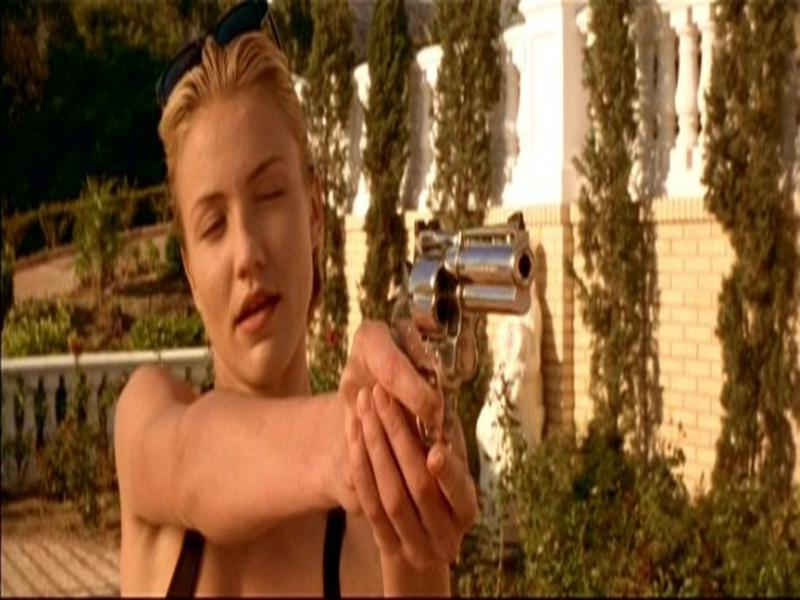Revolver: (376, 207, 540, 449)
